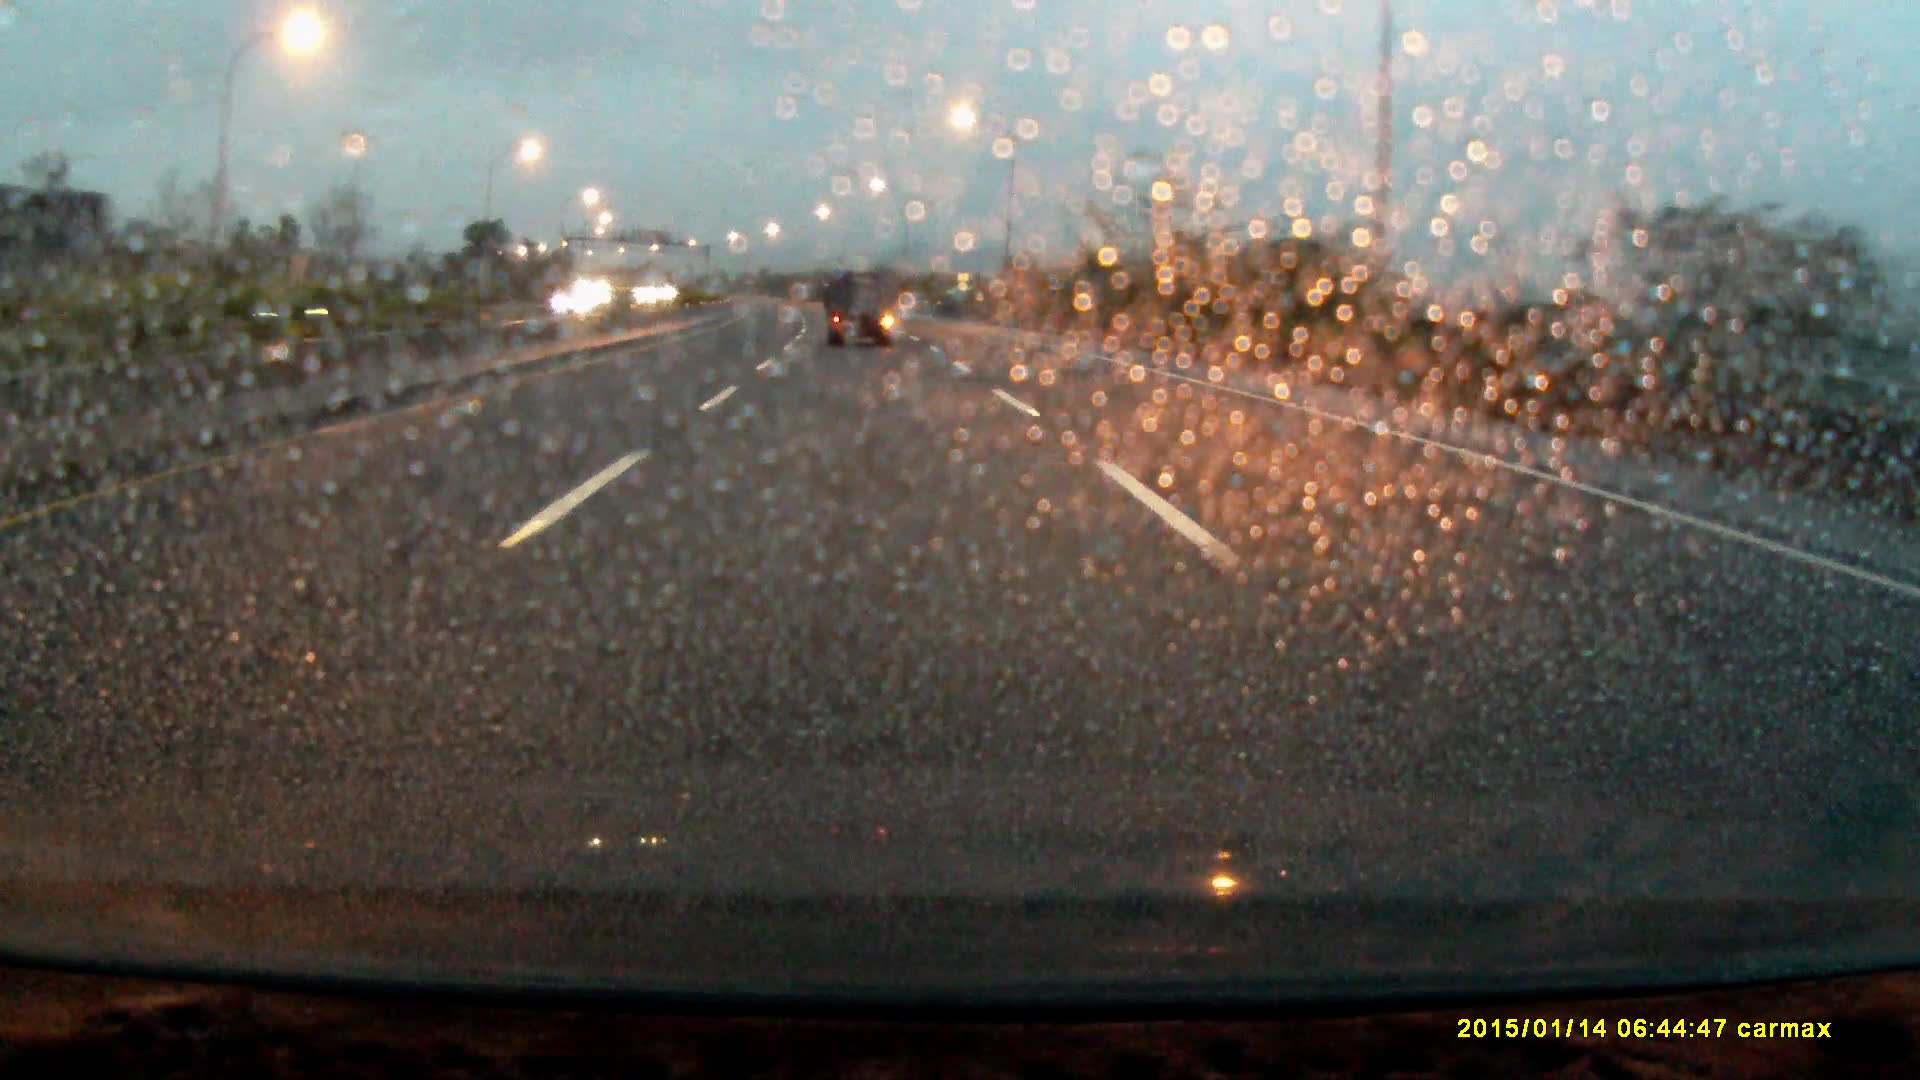vehicle: (825, 277, 897, 349), (555, 287, 611, 316)
